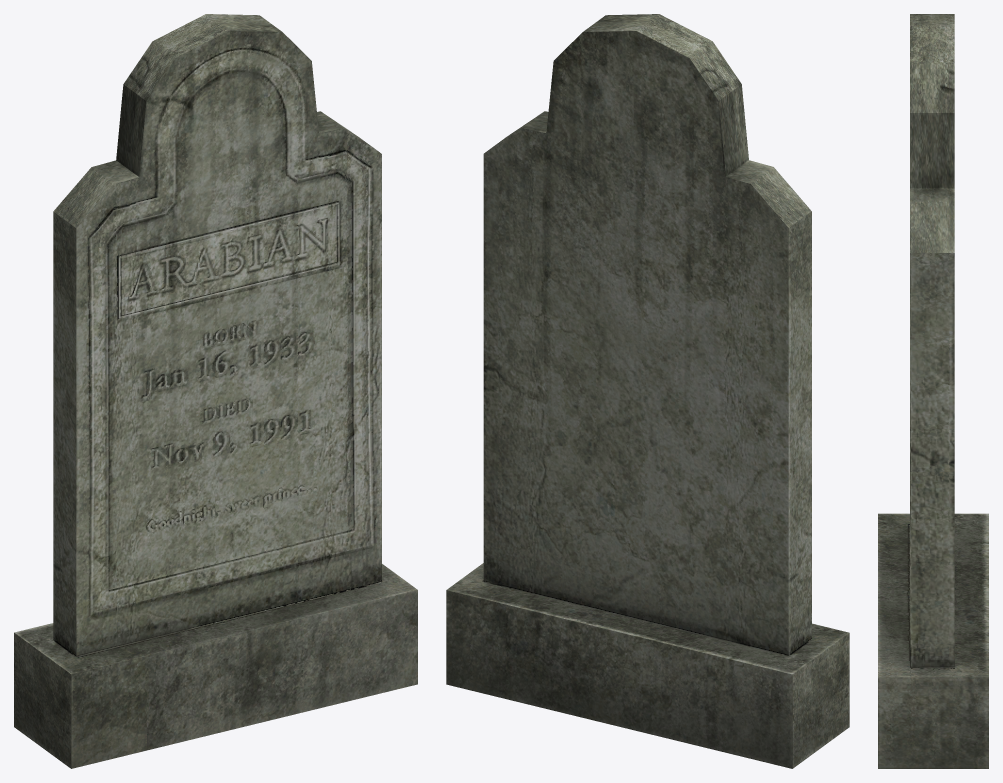
Rendered from Gravestone02.dae.
3 renders of one model, left to right at view 1: azimuth 30°, elevation 25°; view 2: azimuth 150°, elevation 25°; view 3: azimuth 270°, elevation 25°, orthographic. The views are drawn at different scales.
Visible parts, largest first — view 1: Gravestone02; view 2: Gravestone02; view 3: Gravestone02.
Part boxes in pixels (x1,y1,x2,y2): Gravestone02: (14, 14, 417, 768); Gravestone02: (446, 14, 849, 768); Gravestone02: (878, 14, 988, 768).
Bounding box in the file's own units: 0.9576 × 0.2738 × 1.8.
